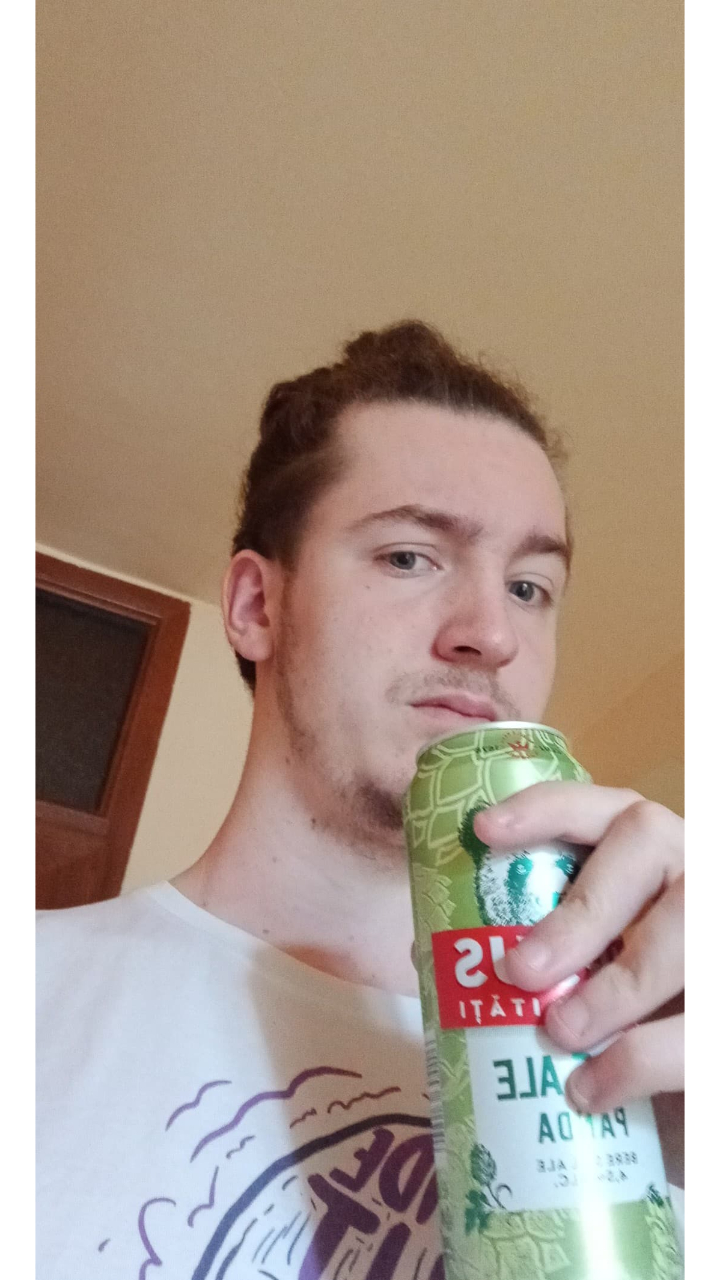Can: (403, 720, 687, 1280)
